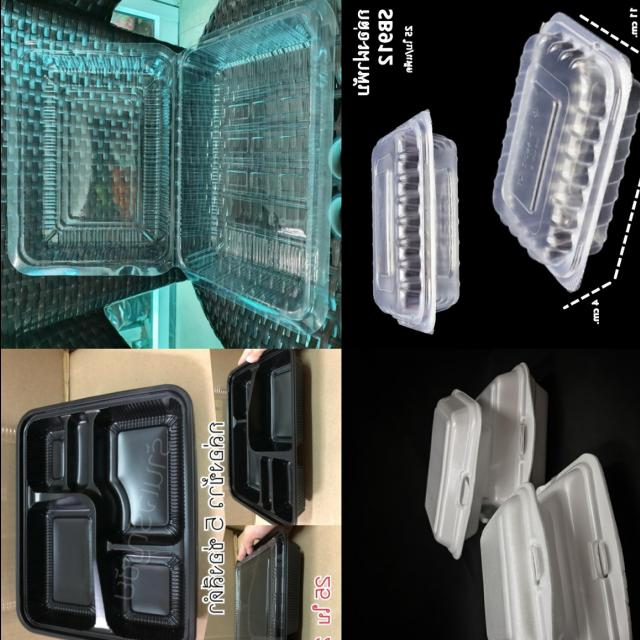plastik: (6, 0, 336, 334), (16, 385, 195, 640), (492, 14, 640, 291), (371, 110, 459, 334), (535, 454, 631, 640), (227, 350, 303, 524), (480, 483, 555, 640), (476, 363, 546, 521), (423, 390, 481, 559), (233, 527, 300, 640)
